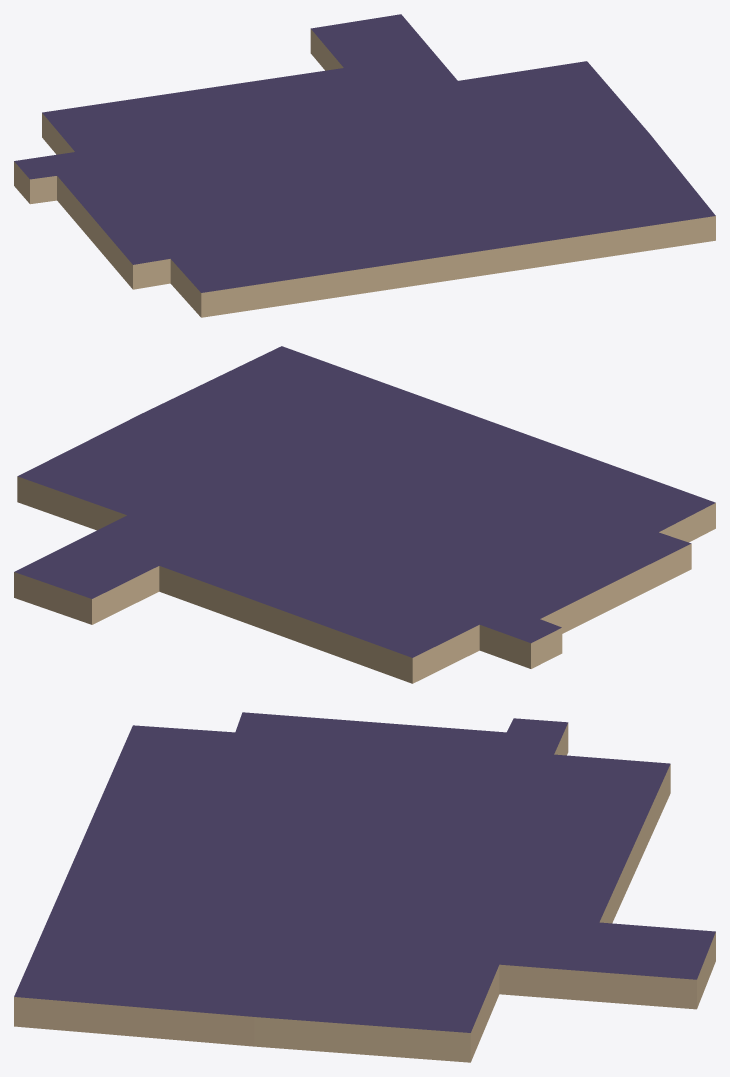
File: b-082-arts-humanities-day.glb
3 renders of one model, top to bottom at view 1: azimuth 30°, elevation 25°; view 2: azimuth 150°, elevation 25°; view 3: azimuth 270°, elevation 25°, orthographic. The views are drawn at different scales.
Parts seen in each view (by area): view 1: campus/b-082-arts-humanities-day-0; view 2: campus/b-082-arts-humanities-day-0; view 3: campus/b-082-arts-humanities-day-0.
Part boxes in pixels (x1=…): campus/b-082-arts-humanities-day-0: x1=14, y1=14, x2=715, y2=317; campus/b-082-arts-humanities-day-0: x1=14, y1=346, x2=715, y2=683; campus/b-082-arts-humanities-day-0: x1=14, y1=712, x2=715, y2=1062.
Size of the model in its own units: 69.65 by 3 by 64.41.
